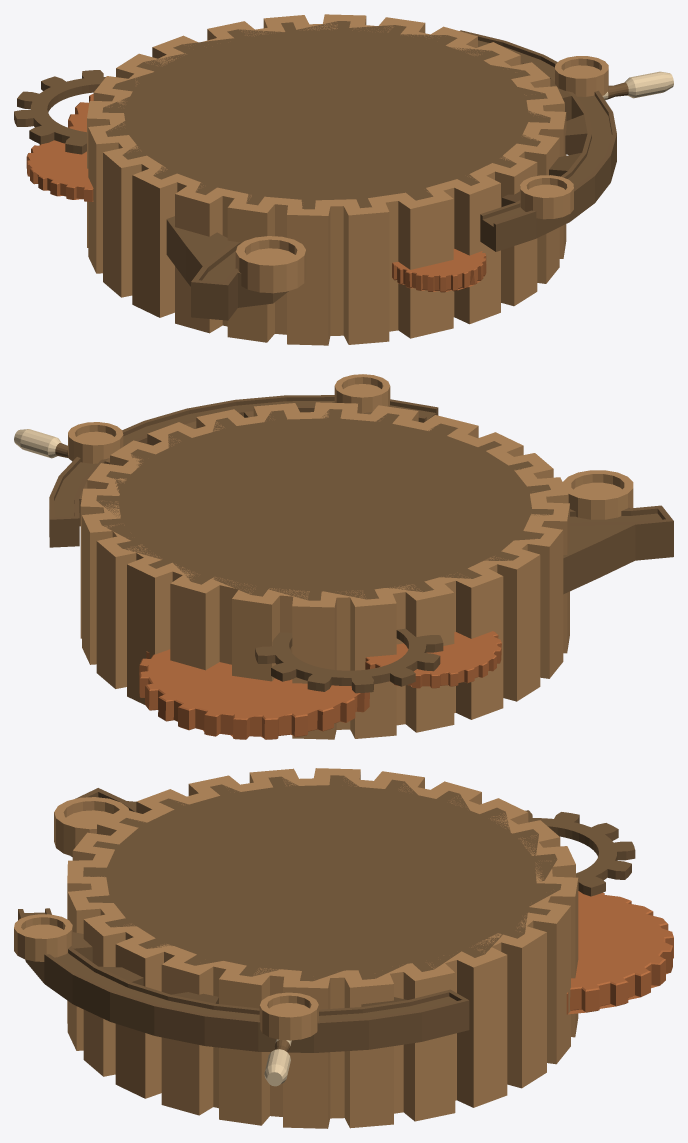
The model's file is PlayButtonV2.fbx.
The picture shows the model from 3 angles, top to bottom: view 1: azimuth 30°, elevation 25°; view 2: azimuth 150°, elevation 25°; view 3: azimuth 270°, elevation 25°; orthographic projection. The views are drawn at different scales.
Parts seen in each view (by area): view 1: GearSimple.017; view 2: GearSimple.017; view 3: GearSimple.017.
Part boxes in pixels (x1,y1,x2,y2): GearSimple.017: (14,14,673,345); GearSimple.017: (14,374,673,739); GearSimple.017: (14,768,673,1128).
Bounding box in the file's own units: 36.63 × 8.09 × 34.36.
